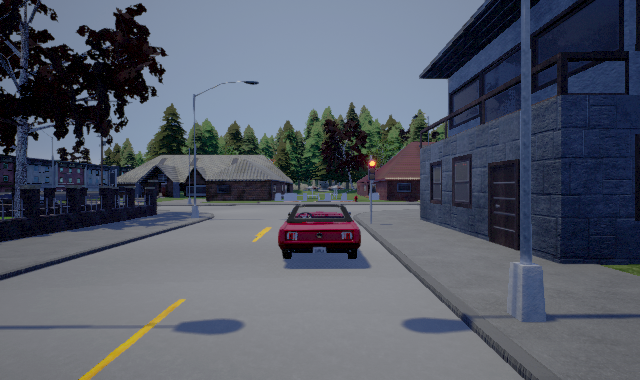traffic_light: (368, 156, 375, 184)
vehicle: (278, 204, 361, 259)
